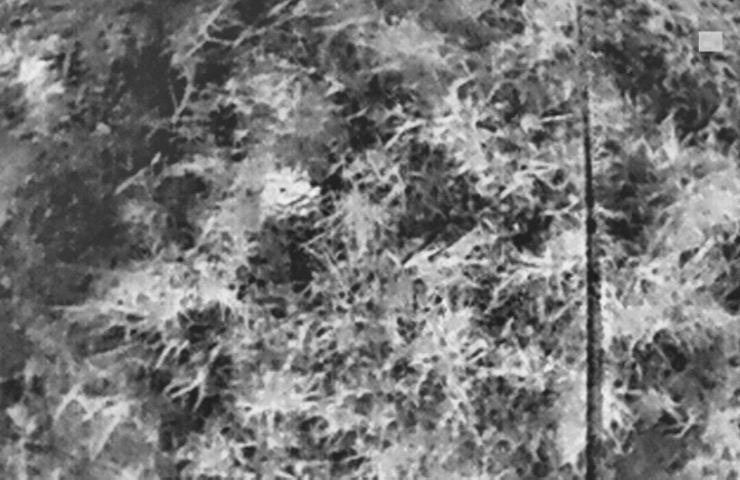landmines: (260, 164, 319, 210)
